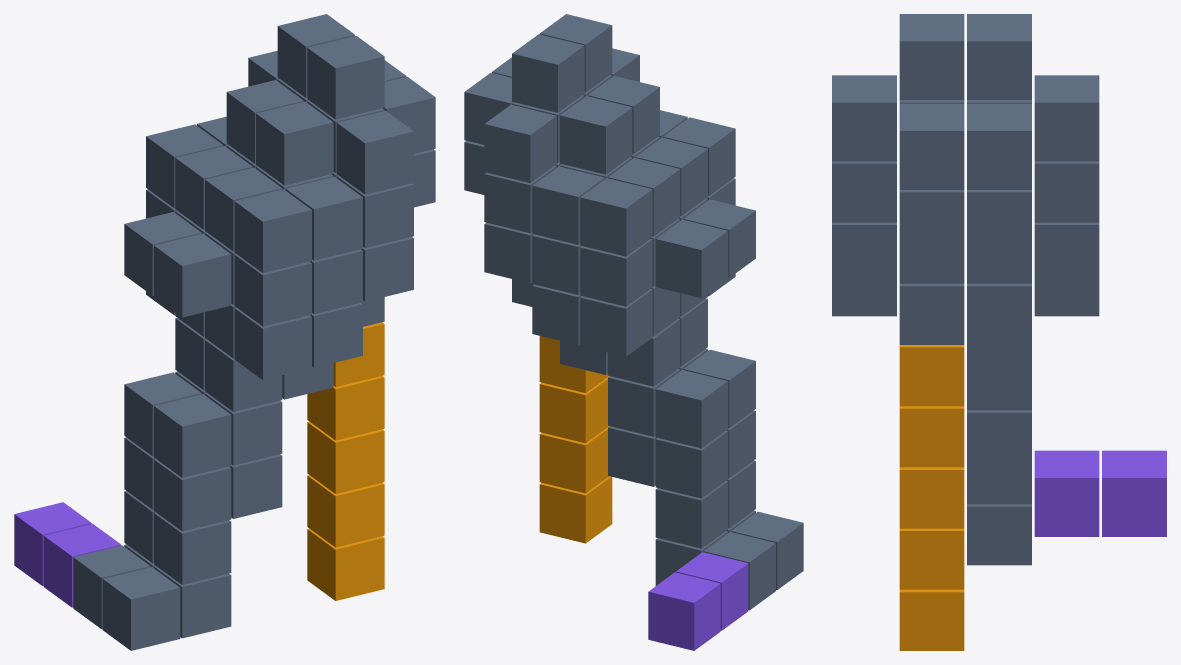
File: stabilized.glb
3 renders of one model, left to right at view 1: azimuth 30°, elevation 25°; view 2: azimuth 150°, elevation 25°; view 3: azimuth 270°, elevation 25°, orthographic. The views are drawn at different scales.
Visible parts, largest first — view 1: Original blocks, Columns, Footing; view 2: Original blocks, Columns, Footing; view 3: Original blocks, Columns, Footing.
Boxes of the visible parts, bbox=[...] form: Original blocks: bbox=[73, 14, 435, 650]; Columns: bbox=[307, 322, 384, 600]; Footing: bbox=[14, 502, 120, 607]; Original blocks: bbox=[464, 14, 803, 610]; Columns: bbox=[539, 336, 612, 543]; Footing: bbox=[648, 552, 748, 650]; Original blocks: bbox=[832, 14, 1099, 565]; Columns: bbox=[899, 345, 964, 650]; Footing: bbox=[1034, 450, 1166, 536].
Bounding box in the file's own units: 0.596 × 0.996 × 0.496.
